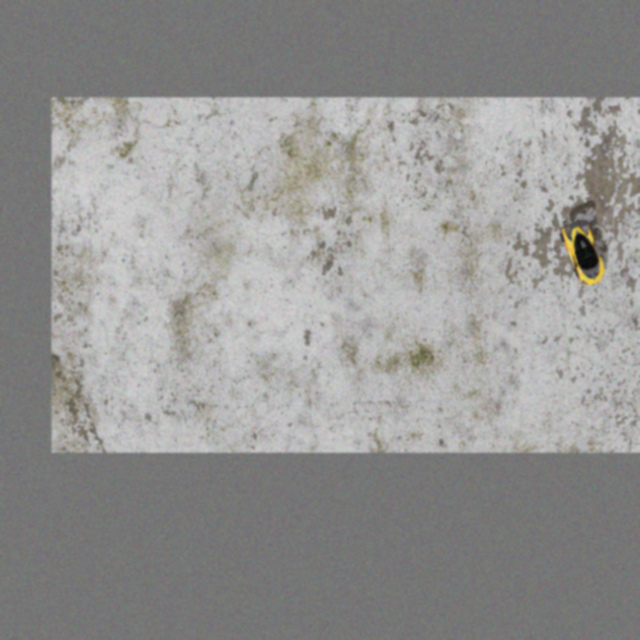car: (556, 216, 614, 290)
